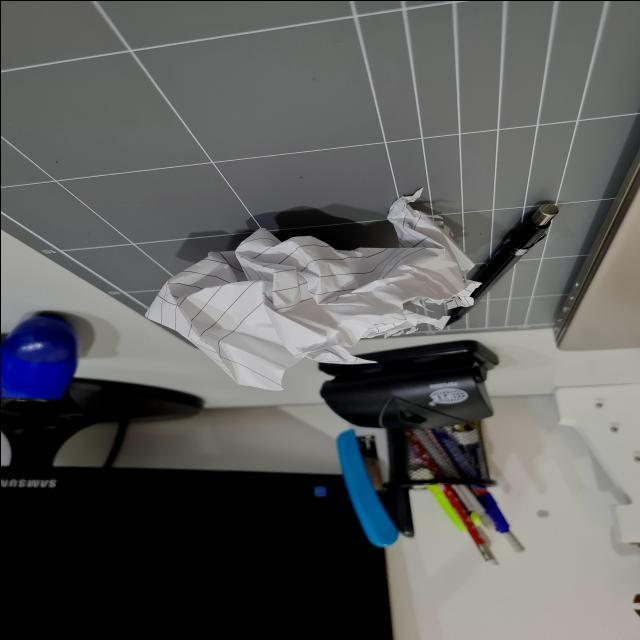Paper: (117, 176, 486, 418)
